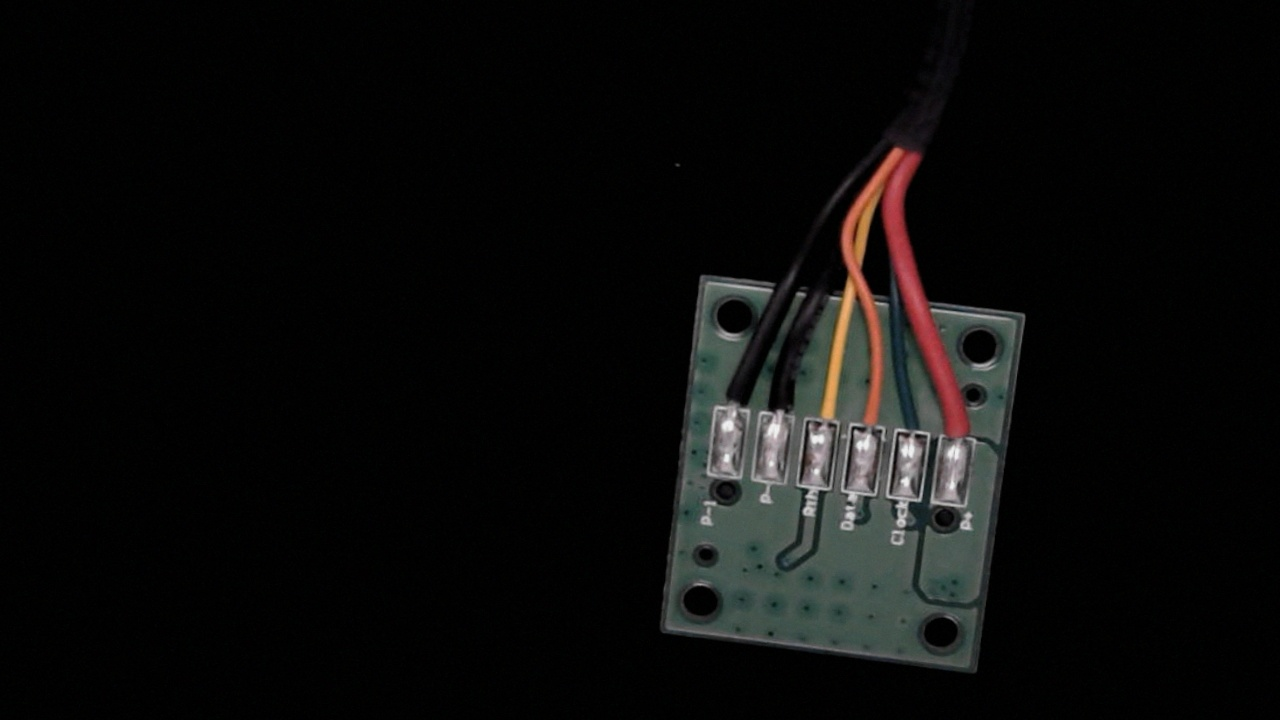Black: (759, 361, 803, 437)
Black1: (712, 360, 757, 431)
Green: (895, 380, 940, 457)
Orange: (852, 376, 895, 451)
Red: (933, 379, 986, 462)
Yellow: (802, 369, 849, 443)
